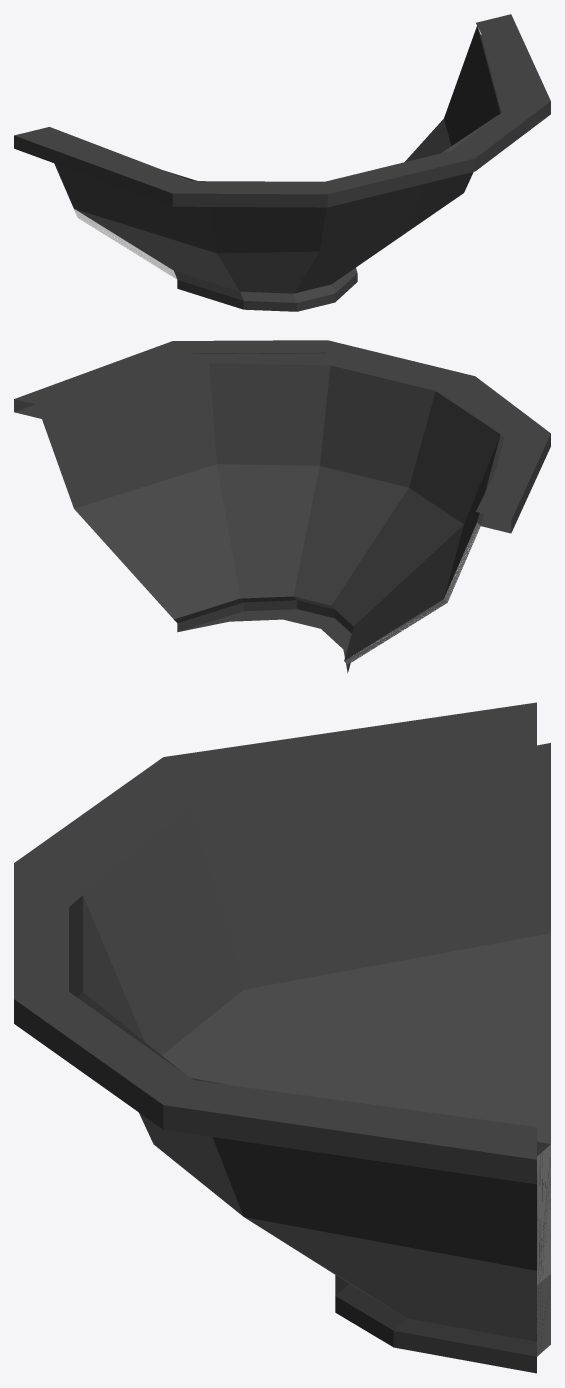
File: wall light.fbx
3 renders of one model, top to bottom at view 1: azimuth 30°, elevation 25°; view 2: azimuth 150°, elevation 25°; view 3: azimuth 270°, elevation 25°, orthographic. The views are drawn at different scales.
Visible parts, largest first — view 1: Sphere; view 2: Sphere; view 3: Sphere.
Boxes of the visible parts, left/top/right/bottom form: Sphere: left=14, top=14, right=550, bottom=311; Sphere: left=14, top=340, right=550, bottom=673; Sphere: left=14, top=702, right=550, bottom=1373.
Size of the model in its own units: 119 by 44.07 by 58.9.
